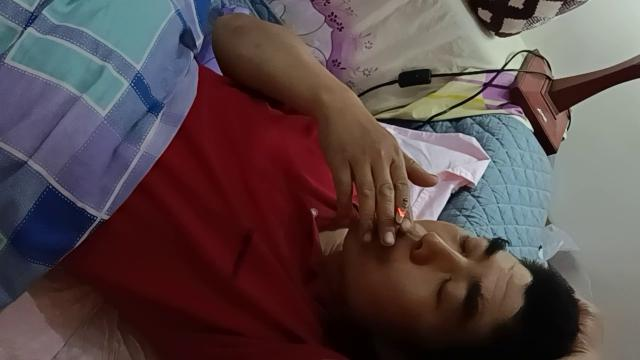Cigarette: (392, 197, 408, 238)
